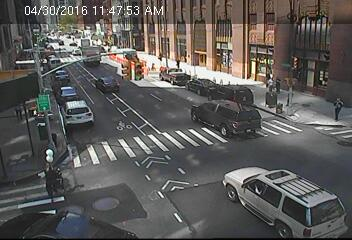neg: (300, 68, 325, 100), (318, 63, 337, 89), (182, 66, 201, 92), (271, 98, 287, 120), (286, 78, 302, 100), (196, 51, 206, 65)
pos: (326, 93, 350, 125), (261, 74, 278, 97), (273, 76, 287, 94), (172, 54, 184, 70)
